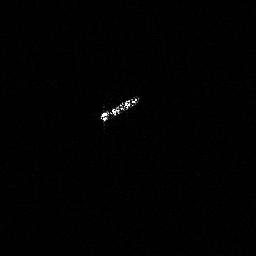ship: (99, 94, 142, 129)
